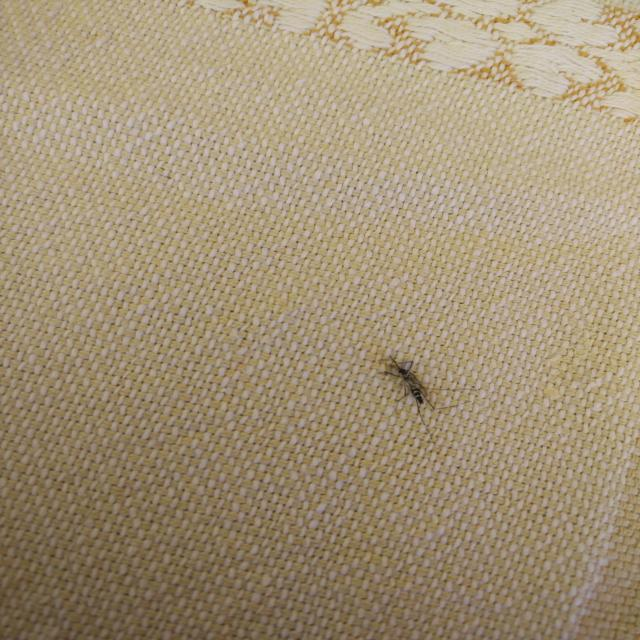albopictus: (365, 351, 456, 425)
